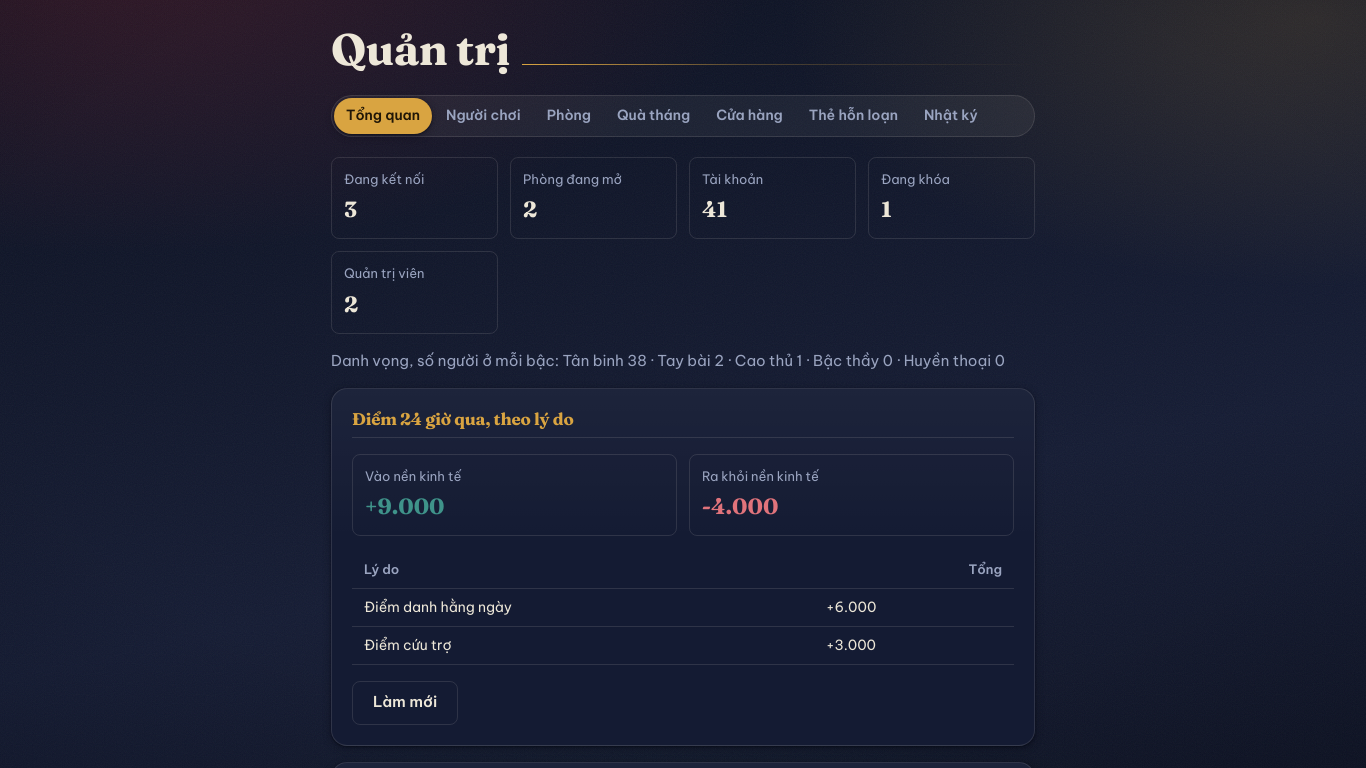
GmScreen — the player pages › leaves when the player page itself is refused
Click the button "Người chơi": [483, 116] box [434,98,533,134]
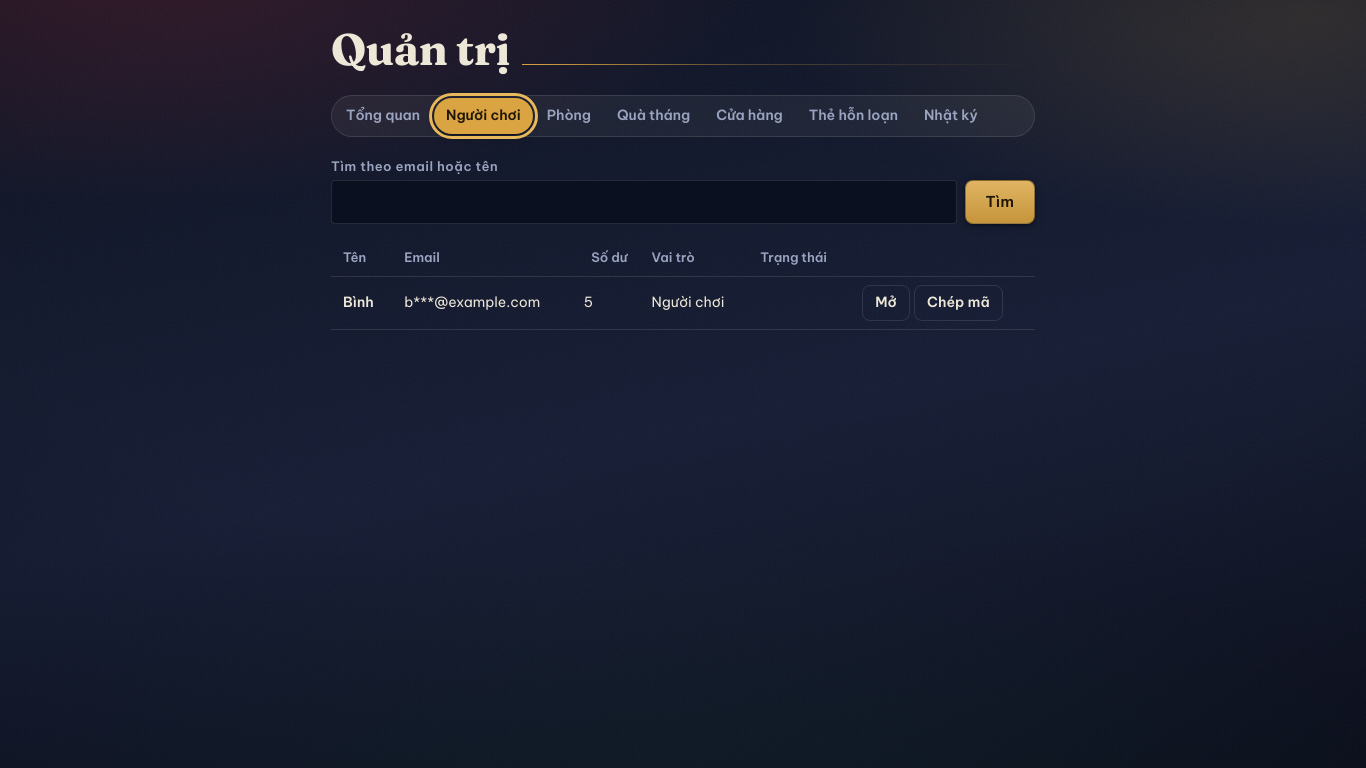
Click the button "Mở": [886, 303] box [862,285,910,321]
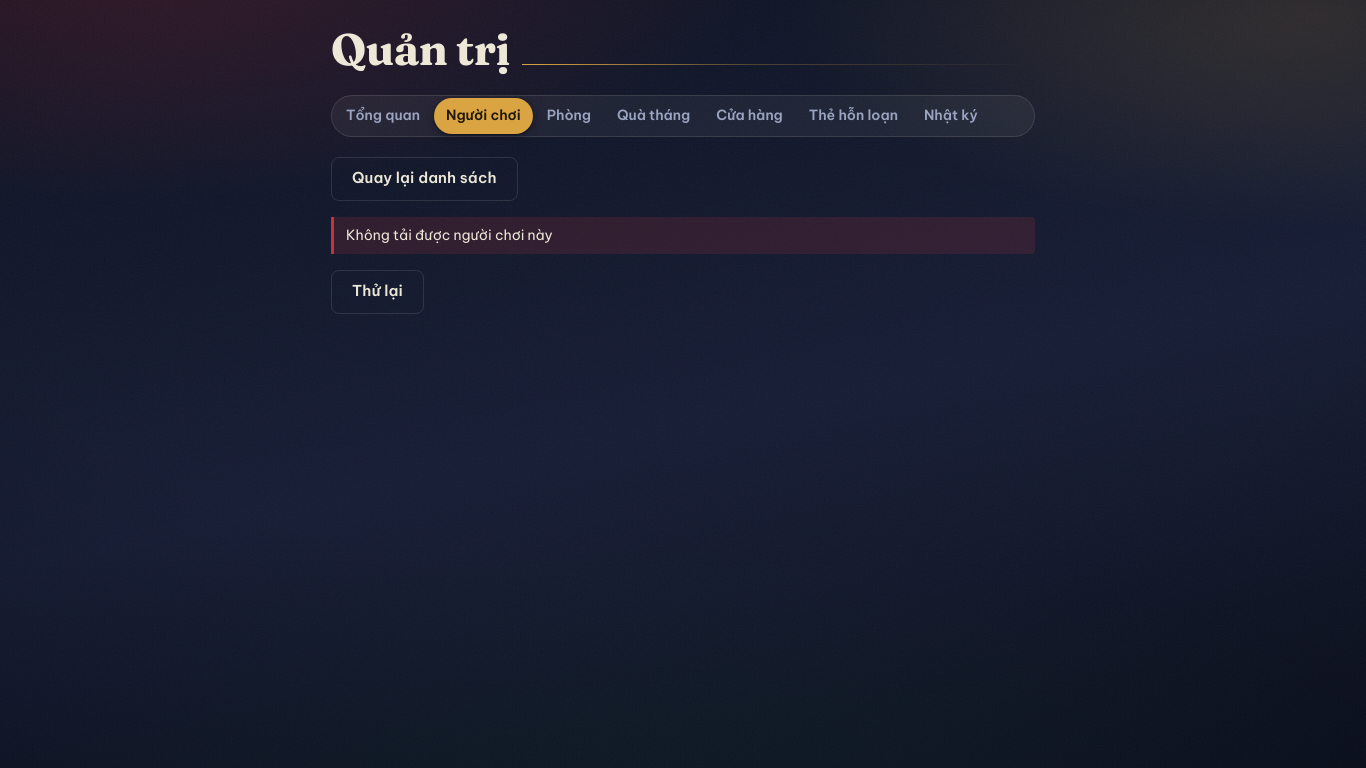
Now the message "Không tải được người chơi này" is shown, box [331,217,1035,254]
